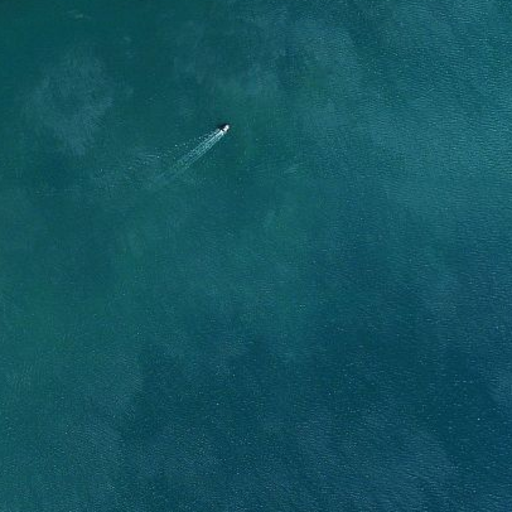ship: (218, 121, 232, 135)
